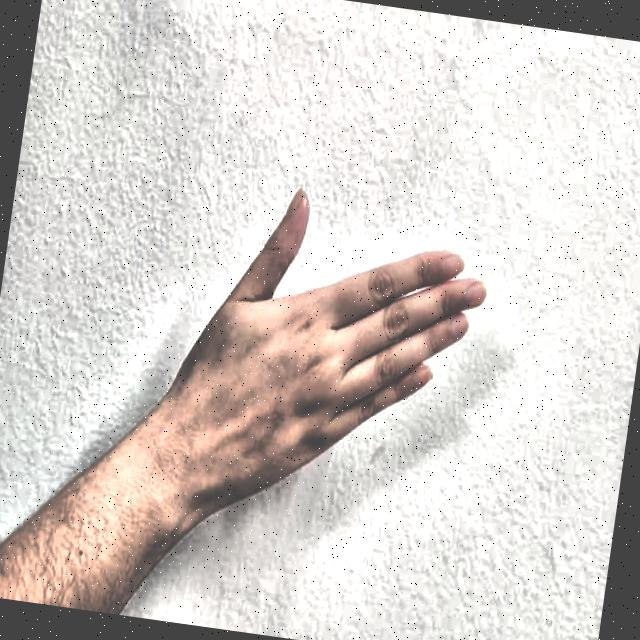Aa: (168, 183, 517, 542)
